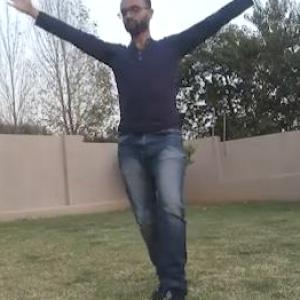takeoff: (22, 0, 251, 299)
